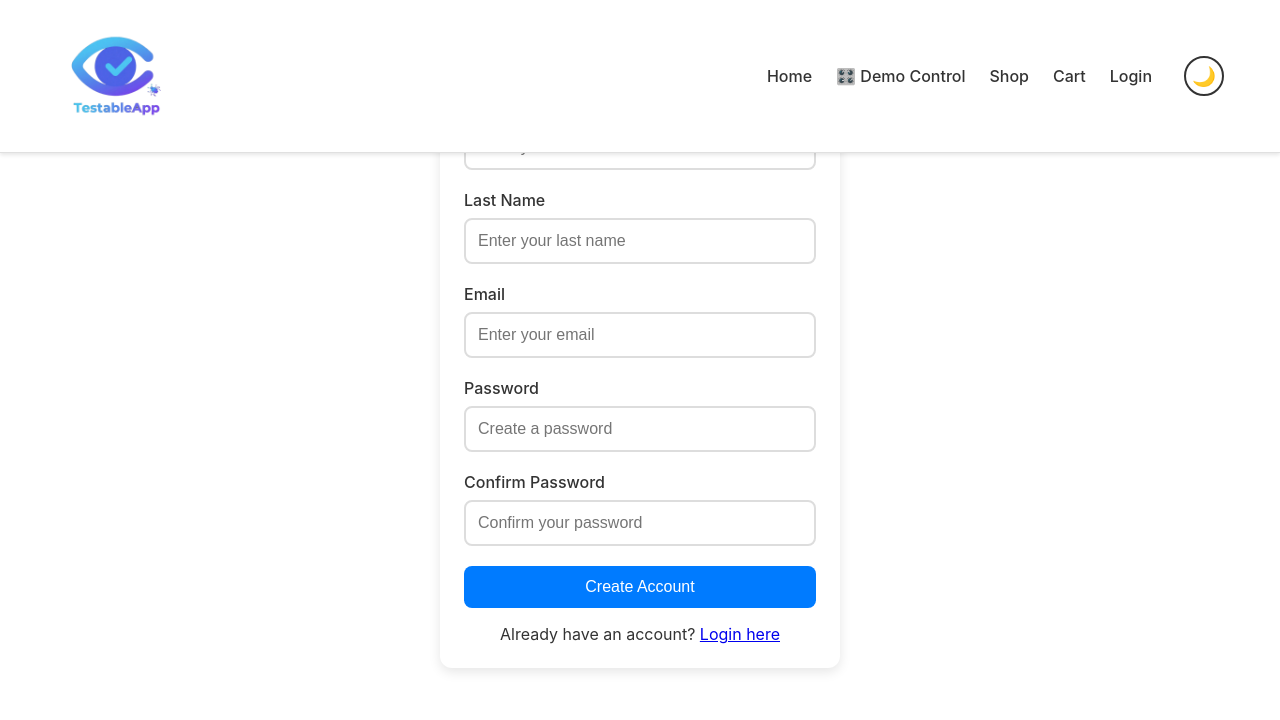
it: Authentication Flow › Register Page › should show validation errors for empty fields
(page scrolled)
Click the button with test id "register-submit".
click(640, 587)  # box [464,566,816,608]
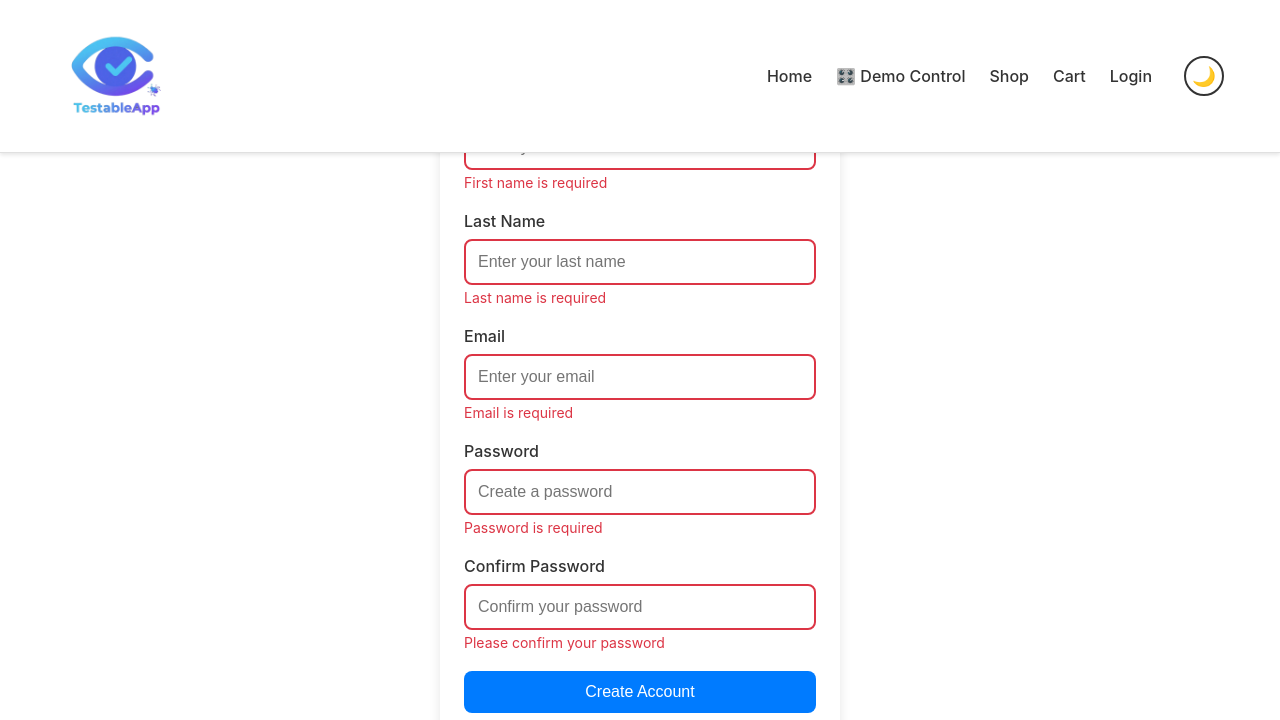
Result: the text with test id "firstName-error" reads "First name is required" at [464,174,607,191]
Result: the text with test id "lastName-error" reads "Last name is required" at [464,289,606,306]
Result: the text with test id "email-error" reads "Email is required" at [464,404,573,421]
